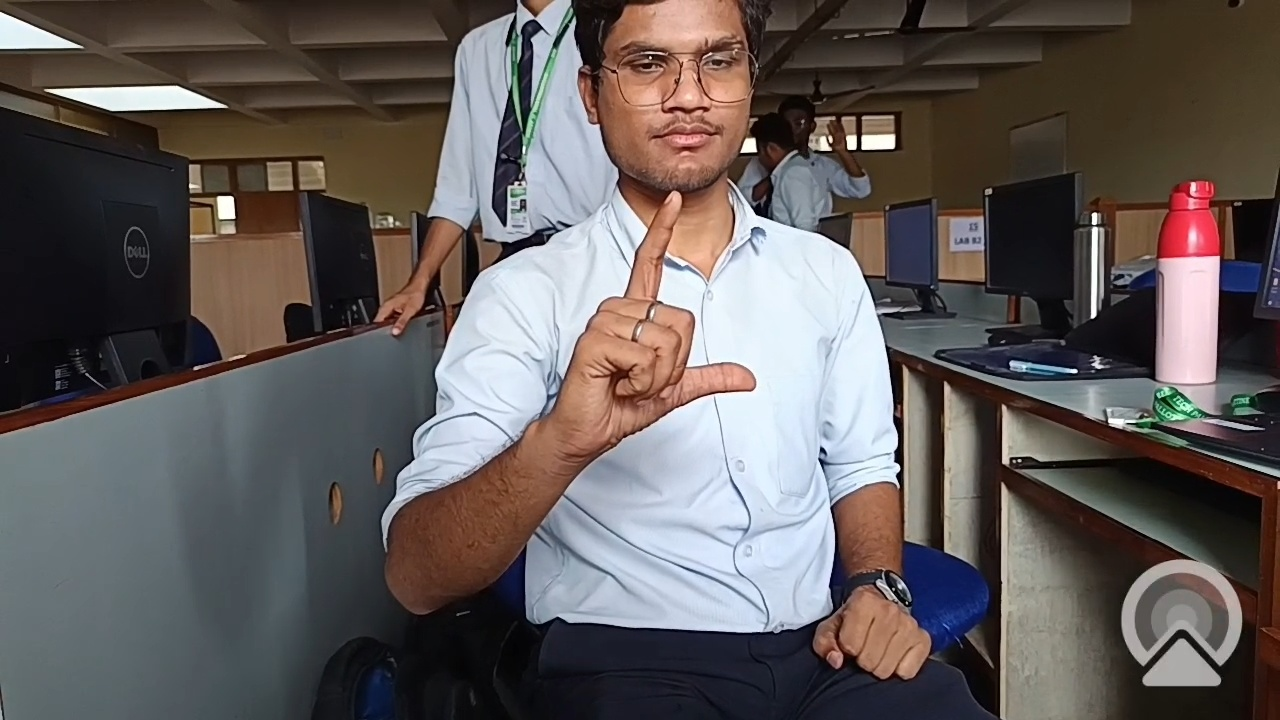L: (545, 176, 779, 510)
